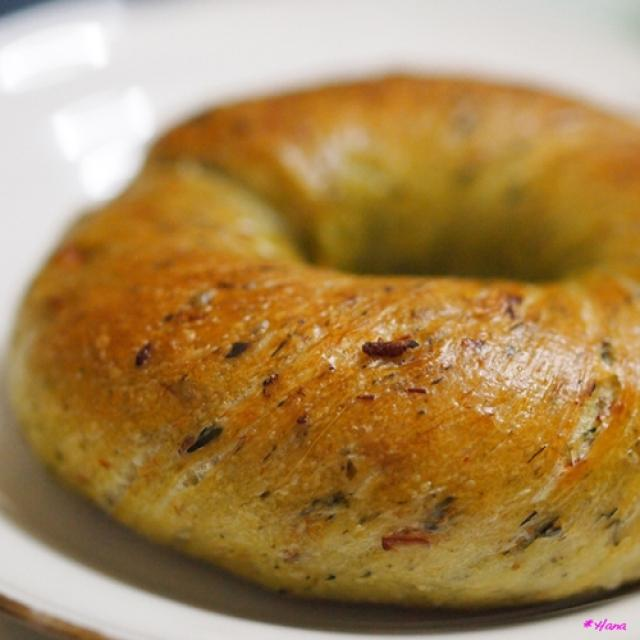面包点心: (15, 37, 631, 616)
